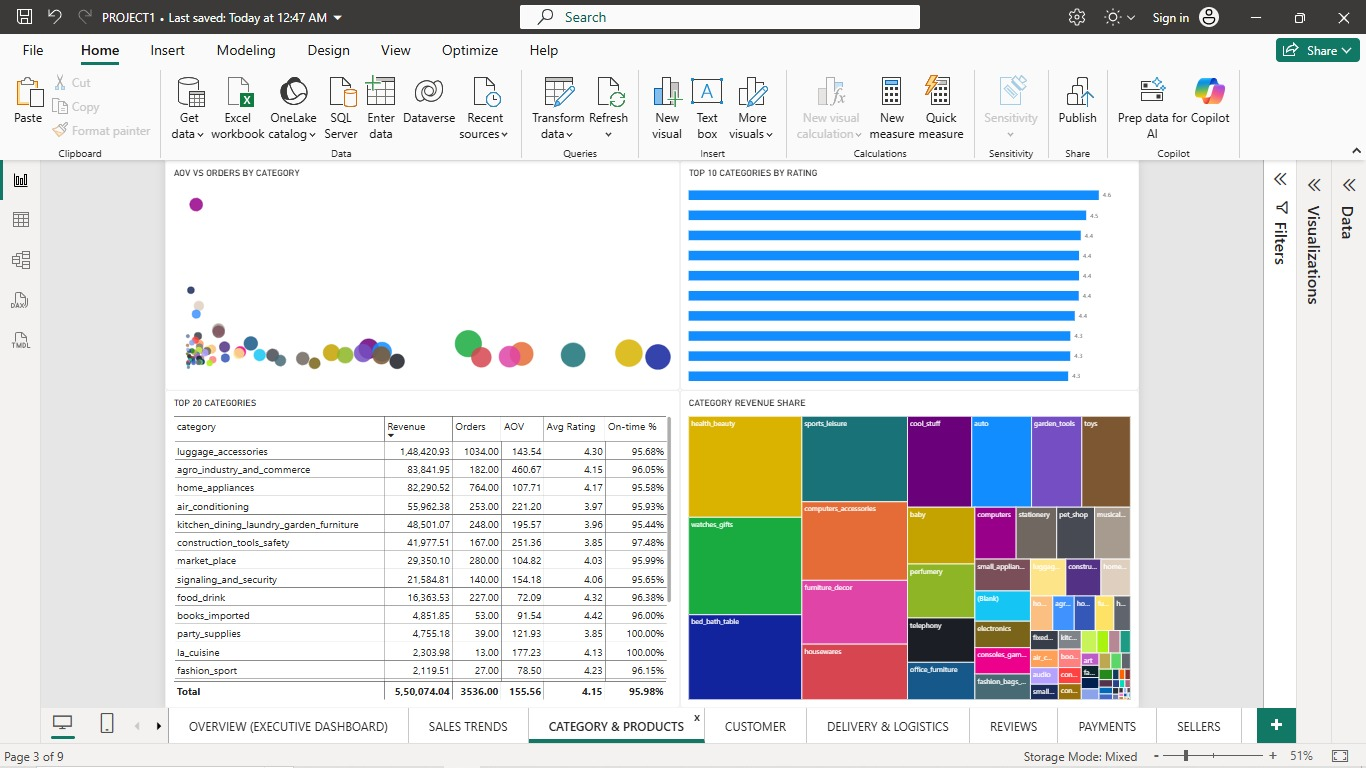

The page's visual inventory and layout, read from the dashboard file:
{"tool":"powerbi","page":{"name":"CATEGORY & PRODUCTS","canvas":[1920,1080],"ordinal":2},"visuals":[{"type":"treemap","title":"CATEGORY REVENUE SHARE","fields":{"Group":["public bi_fact_sales.category"],"Values":["public bi_fact_sales.Revenue"]},"box":[1015.4,453.5,904.6,627.4],"z":0},{"type":"scatterChart","title":"AOV VS ORDERS BY CATEGORY","fields":{"Series":["public bi_fact_sales.category"],"Size":["public bi_fact_sales.Revenue"],"X":["public bi_fact_sales.Orders"],"Y":["DimDate.AOV"]},"box":[0,0,1015.4,453.5],"z":1},{"type":"barChart","title":"TOP 10 CATEGORIES BY RATING","fields":{"Category":["public bi_fact_sales.category"],"Y":["DimDate.Avg Rating"]},"box":[1015.4,0,904.6,453.5],"z":2},{"type":"tableEx","title":"TOP 20 CATEGORIES","fields":{"Values":["public bi_fact_sales.category","public bi_fact_sales.Revenue","public bi_fact_sales.Orders","DimDate.AOV","DimDate.Avg Rating","DimDate.On-time %"]},"box":[0,453.5,1015.4,627.4],"z":3}]}

Visuals, with their boxes on the page's 1920x1080 design canvas (x1, y1, x2, y2). These are canvas units, not pixel positions in the 1366x768 screenshot, which may show the page scaled, cropped or inside an application window:
"CATEGORY REVENUE SHARE" treemap: {"left": 1015, "top": 454, "right": 1920, "bottom": 1081}
"AOV VS ORDERS BY CATEGORY" scatterChart: {"left": 0, "top": 0, "right": 1015, "bottom": 454}
"TOP 10 CATEGORIES BY RATING" barChart: {"left": 1015, "top": 0, "right": 1920, "bottom": 454}
"TOP 20 CATEGORIES" tableEx: {"left": 0, "top": 454, "right": 1015, "bottom": 1081}
